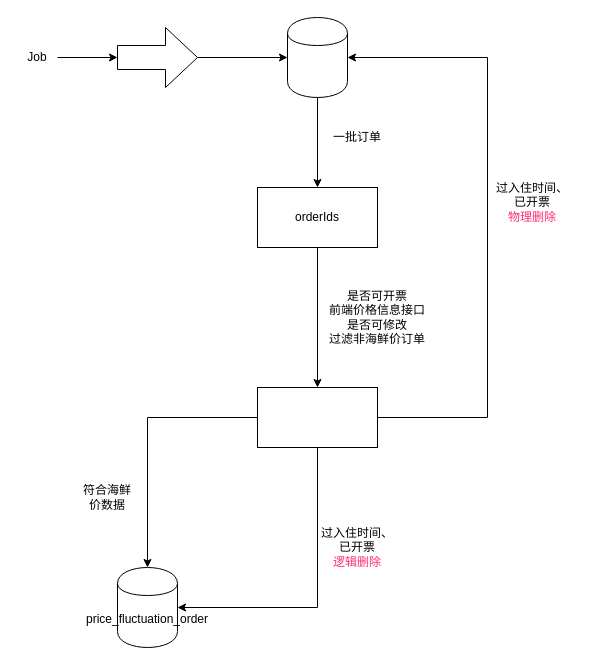
Image size: 594x665. Some labels were removed from this diagram. Here are the shapes that lost their labels. From the top down, the centre of each, then its label:
At (317,57): "effective_order_flu".
At (317,417): "findValidateOrderByOrderid".
